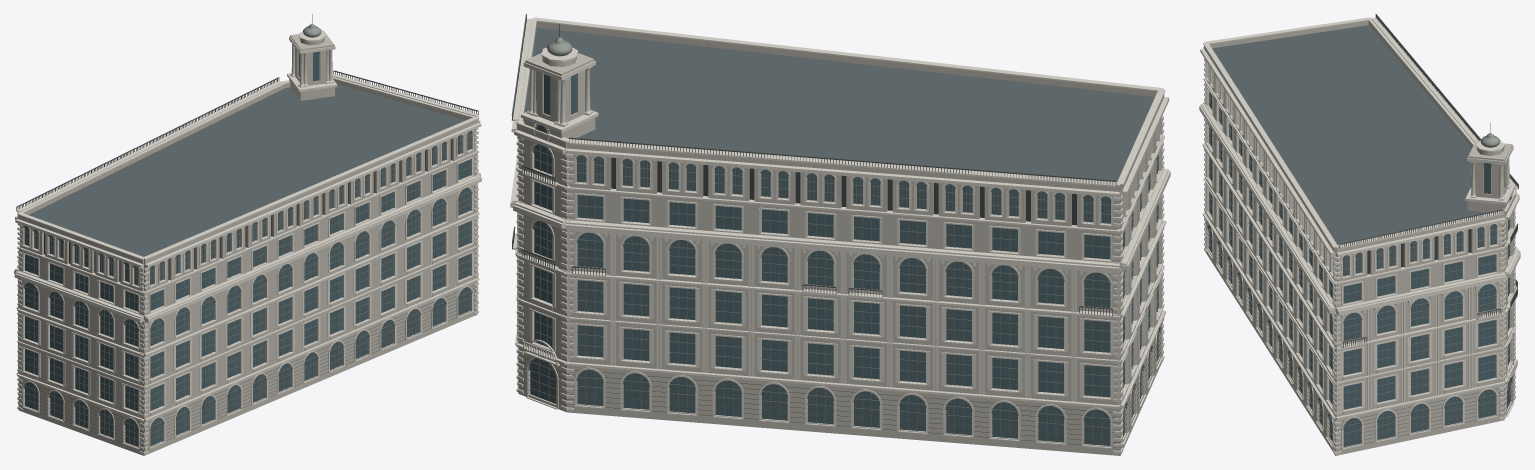
File: bund03.glb
3 views of the same model, side by side, from view 1: azimuth 30°, elevation 25°; view 2: azimuth 150°, elevation 25°; view 3: azimuth 270°, elevation 25° (orthographic). The views are drawn at different scales.
Bounding box in the file's own units: 80.32 × 45.75 × 46.73.
